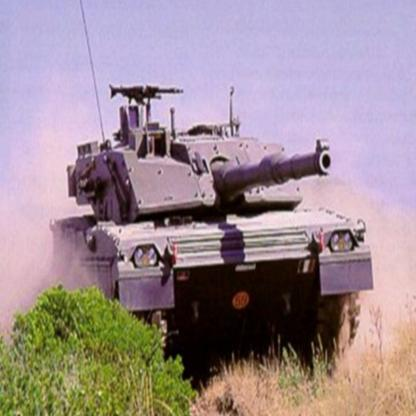Tank: (54, 84, 374, 374)
